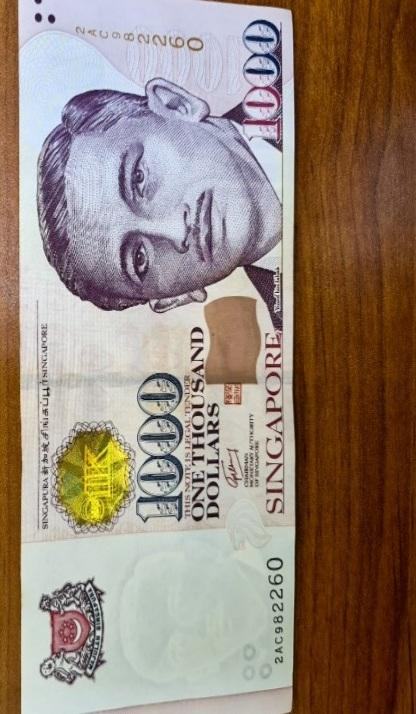1000SingaporeDollar: (21, 0, 290, 714)
